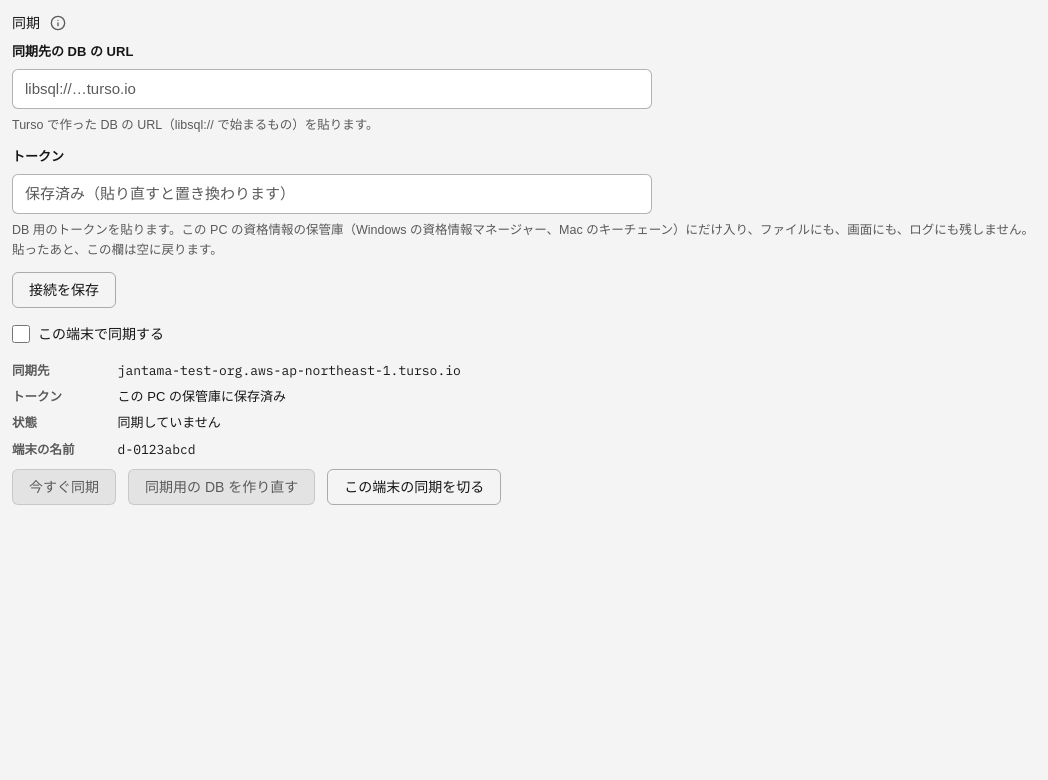
Scenario: 設定の「同期」の欄（F15、D-4） › 使うのに足りないとき（コマンドが断る）は、理由を出し、選択は変わらない
This screenshot has width=1048, height=780.
Click the checkbox labelled "この端末で同期する": (21, 334) x1=12 y1=325 x2=30 y2=343
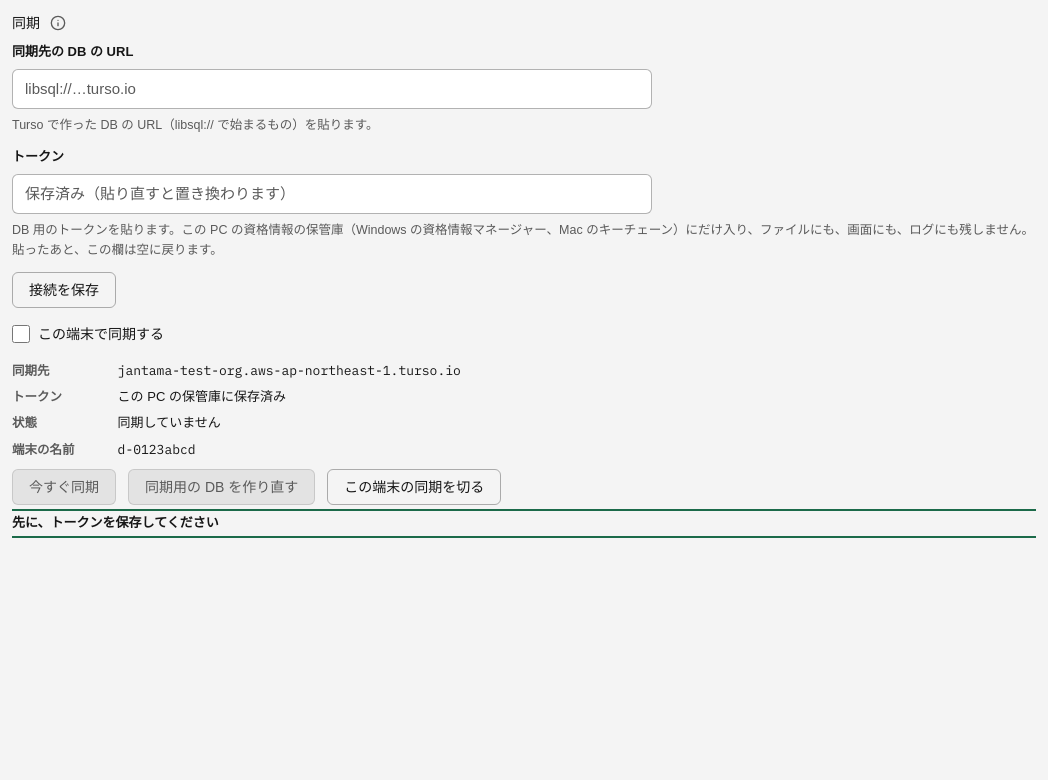
Now the message "先に、トークンを保存してください" is shown, box x1=12 y1=515 x2=219 y2=530
